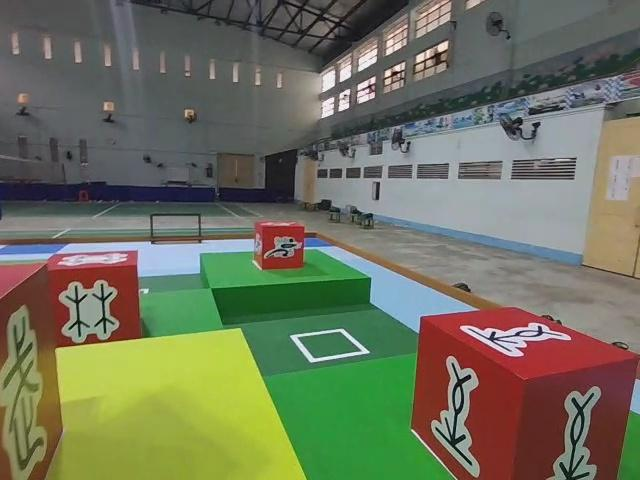R1: (257, 220, 306, 270)
R2 Fake: (0, 262, 64, 480)
R2 Real: (411, 308, 640, 479), (49, 251, 140, 359)
